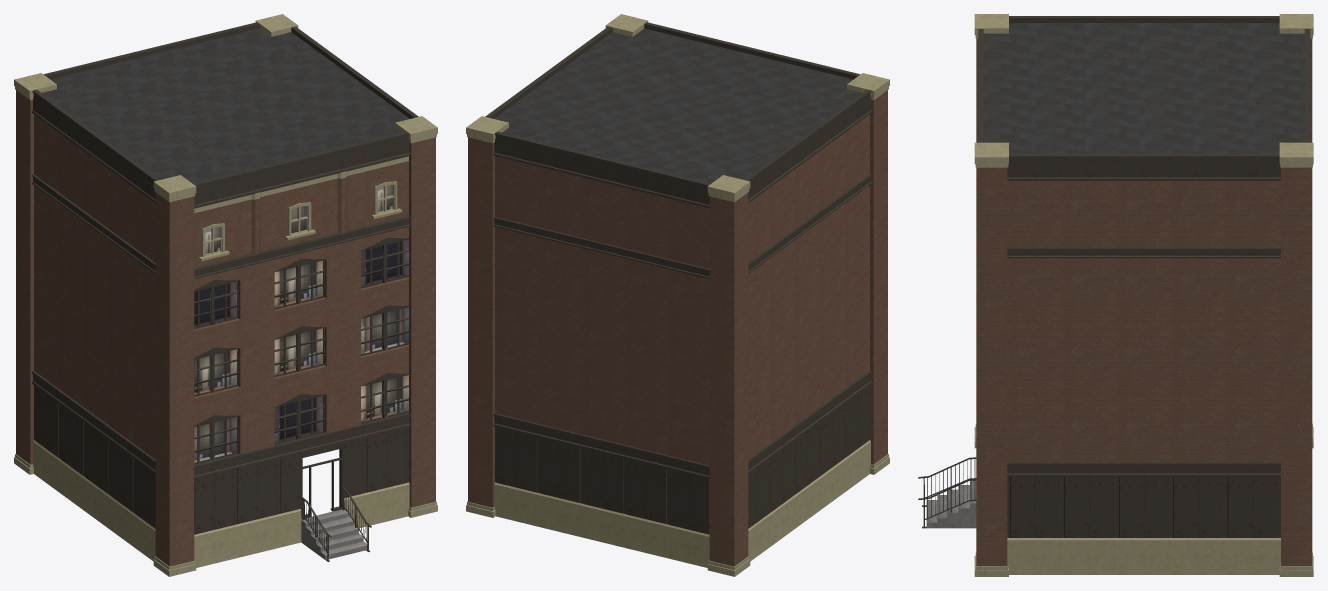
File: Building_Small_1.gltf
3 views of the same model, side by side, from view 1: azimuth 30°, elevation 25°; view 2: azimuth 150°, elevation 25°; view 3: azimuth 270°, elevation 25° (orthographic). The views are drawn at different scales.
Size of the model in its own units: 12.46 by 17.03 by 14.54.
10 materials, 10 textured.
